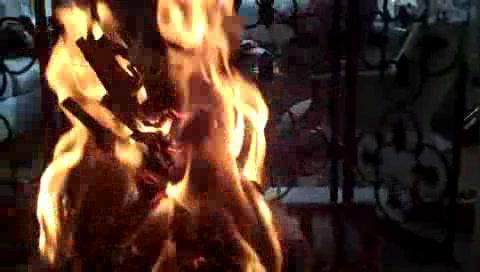fire: (14, 1, 284, 272)
